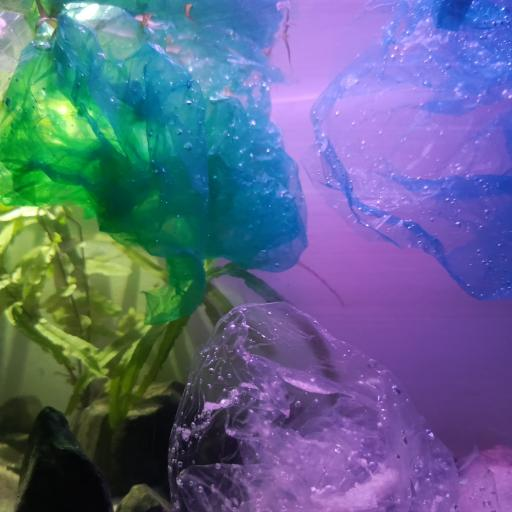plastic_bag: (1, 0, 310, 326), (170, 302, 499, 512), (308, 2, 512, 304)
plastic_cup: (0, 4, 30, 92)
